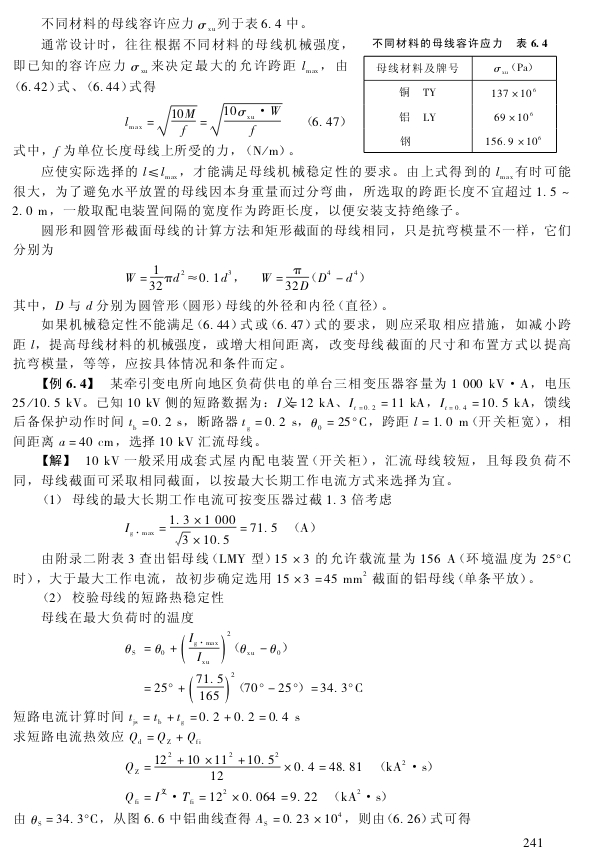table: (363, 55, 557, 153)
